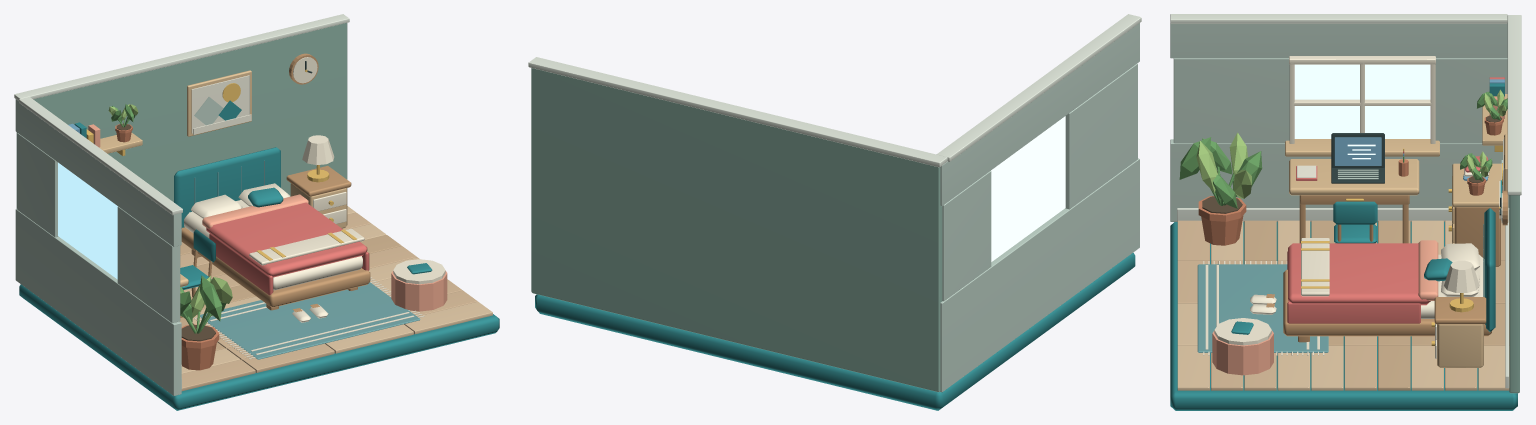
Rendered from bedroom.glb.
The picture shows the model from 3 angles, left to right: view 1: azimuth 30°, elevation 25°; view 2: azimuth 150°, elevation 25°; view 3: azimuth 270°, elevation 25°; orthographic projection. The views are drawn at different scales.
Visible parts, largest first — view 1: Back sage wall, Window wall lower, Floating beveled foundation, Woven rug, Coral duvet, Window wall upper, Window wall front, Blue window glazing, Upholstered headboard, Back wall cap, Window wall rear, Bed platform (+27 smaller); view 2: Back sage wall, Window wall lower, Floating beveled foundation, Window wall upper, Window wall front, Blue window glazing, Back wall cap, Window wall rear, Left wall cap; view 3: Window wall upper, Window wall front, Floating beveled foundation, Blue window glazing, Window wall lower, Coral duvet, Woven rug, Window wall rear, Left wall cap, Writing desk top, Duvet side drape.001, Back wall cap (+64 smaller).
Boxes of the visible parts, x1=… form: Back sage wall: x1=16, y1=23, x2=347, y2=208; Window wall lower: x1=15, y1=209, x2=181, y2=395; Floating beveled foundation: x1=19, y1=284, x2=499, y2=410; Woven rug: x1=200, y1=282, x2=420, y2=359; Coral duvet: x1=206, y1=202, x2=367, y2=277; Window wall upper: x1=15, y1=99, x2=181, y2=246; Window wall front: x1=117, y1=206, x2=180, y2=323; Blue window glazing: x1=58, y1=162, x2=117, y2=279; Upholstered headboard: x1=174, y1=147, x2=280, y2=228; Back wall cap: x1=14, y1=14, x2=349, y2=100; Window wall rear: x1=17, y1=133, x2=58, y2=237; Bed platform: x1=181, y1=227, x2=370, y2=307; Back sage wall: x1=531, y1=68, x2=942, y2=392; Window wall lower: x1=939, y1=158, x2=1139, y2=392; Floating beveled foundation: x1=535, y1=252, x2=1135, y2=410; Window wall upper: x1=940, y1=23, x2=1139, y2=205; Window wall front: x1=1065, y1=63, x2=1137, y2=209; Blue window glazing: x1=991, y1=116, x2=1065, y2=261; Back wall cap: x1=528, y1=57, x2=947, y2=167; Window wall rear: x1=942, y1=171, x2=991, y2=301; Left wall cap: x1=936, y1=14, x2=1141, y2=161; Window wall upper: x1=1170, y1=23, x2=1507, y2=58; Window wall front: x1=1173, y1=58, x2=1289, y2=143; Floating beveled foundation: x1=1170, y1=222, x2=1517, y2=410; Blue window glazing: x1=1295, y1=64, x2=1429, y2=138; Window wall lower: x1=1170, y1=139, x2=1509, y2=221; Coral duvet: x1=1288, y1=243, x2=1430, y2=305; Woven rug: x1=1197, y1=264, x2=1328, y2=352; Window wall rear: x1=1435, y1=58, x2=1507, y2=143; Left wall cap: x1=1170, y1=14, x2=1507, y2=23; Writing desk top: x1=1289, y1=159, x2=1419, y2=195; Duvet side drape.001: x1=1287, y1=301, x2=1420, y2=323; Back wall cap: x1=1507, y1=15, x2=1521, y2=195.
Size of the model in its own units: 6.28 by 3.68 by 5.26.
